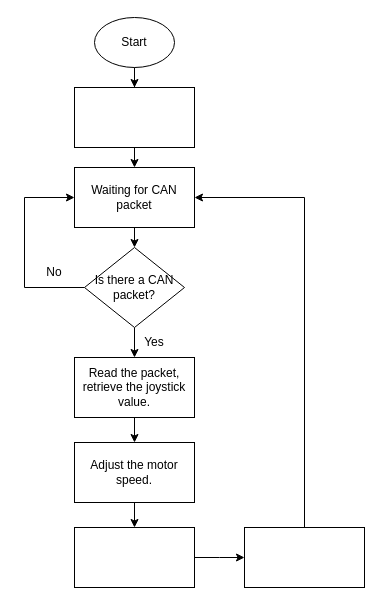
Some shapes in this 382 by 605 pixel diagram are drawn without their labels. The shapes that lost their labels are listed below. From the top down, each one's centre as x and y in pixels, then its label:
point (134, 117): Configure GPIO, Initialize CAN Set Timer
point (134, 557): Read Encoder pulses & Calculate actual speed
point (304, 557): Sending CAN packets
